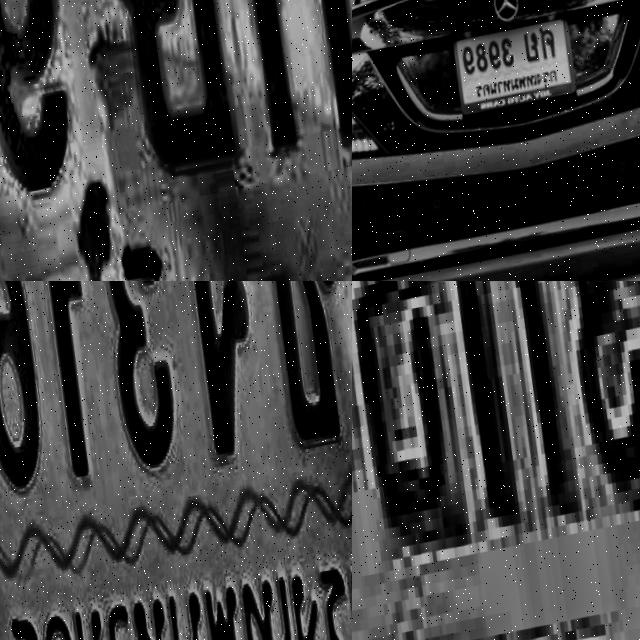license-plate: (0, 281, 352, 640), (352, 281, 640, 640), (0, 0, 352, 281), (445, 0, 584, 132)
